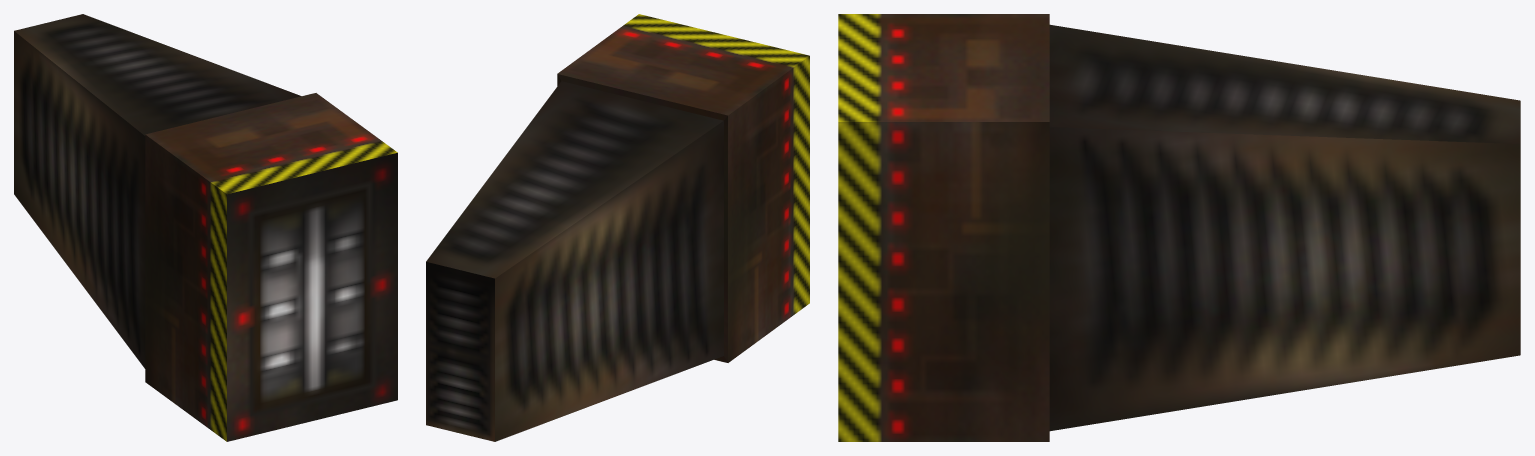
The model's file is acs15.obj.
3 views of the same model, side by side, from view 1: azimuth 30°, elevation 25°; view 2: azimuth 150°, elevation 25°; view 3: azimuth 270°, elevation 25° (orthographic). The views are drawn at different scales.
Visible parts, largest first — view 1: frm-TPcargo; view 2: frm-TPcargo; view 3: frm-TPcargo.
Part boxes in pixels (box(x1,y1,x2,y2)): frm-TPcargo: box(14, 14, 397, 441); frm-TPcargo: box(426, 14, 809, 441); frm-TPcargo: box(838, 14, 1520, 441).
Size of the model in its own units: 2 by 2.77 by 5.35.
Materials: 3 (3 with a texture image).
